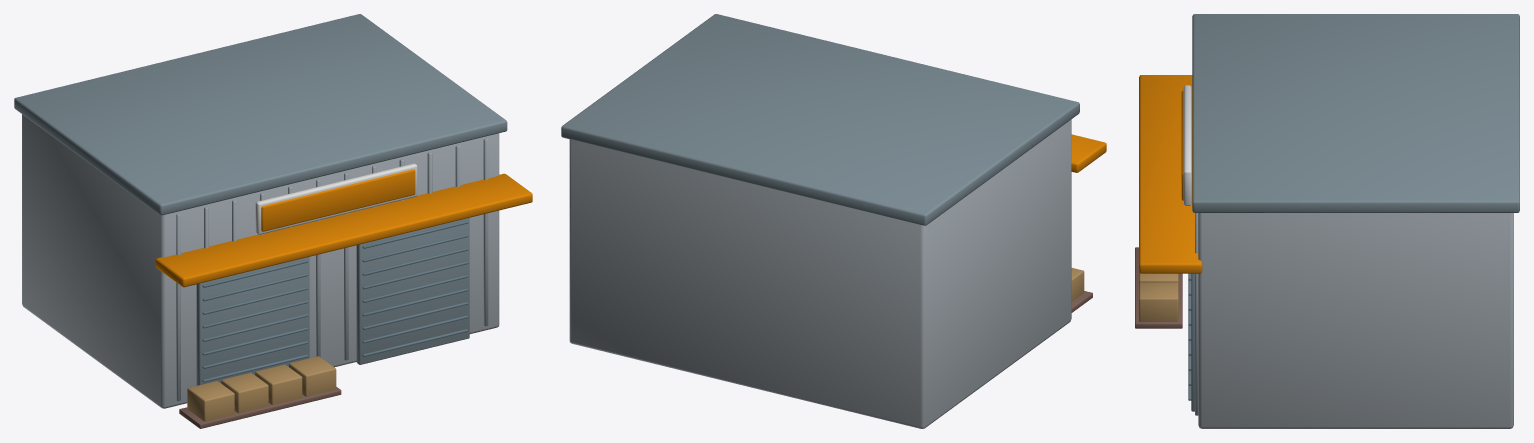
Rendered from bld_warehouse.glb.
The picture shows the model from 3 angles, left to right: view 1: azimuth 30°, elevation 25°; view 2: azimuth 150°, elevation 25°; view 3: azimuth 270°, elevation 25°; orthographic projection. The views are drawn at different scales.
Visible parts, largest first — view 1: bld_warehouse; view 2: bld_warehouse; view 3: bld_warehouse.
Boxes of the visible parts, x1,y1,x2,y2 form: bld_warehouse: (14, 14, 532, 428); bld_warehouse: (561, 14, 1106, 428); bld_warehouse: (1135, 14, 1519, 428).
Bounding box in the file's own units: 11.4 × 6.48 × 9.75.
